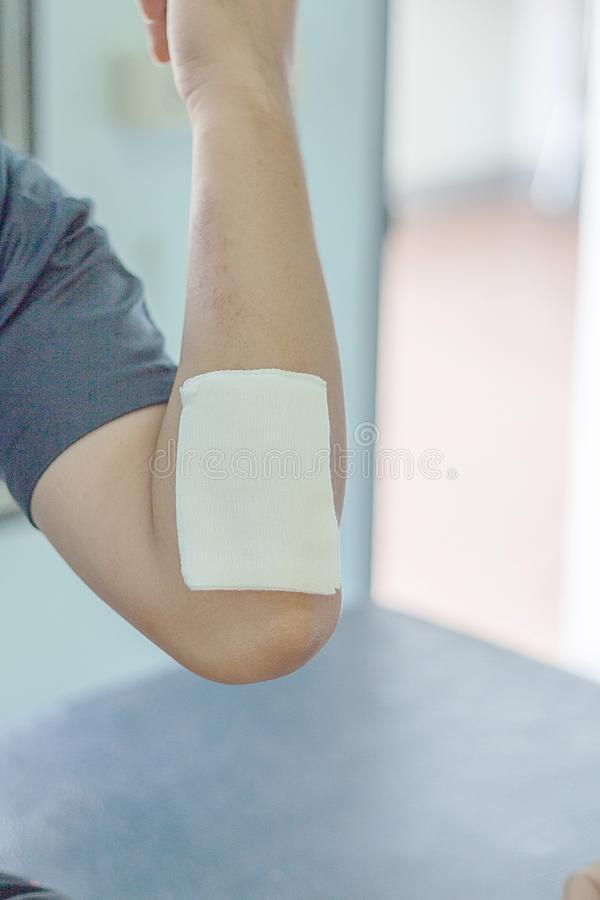gauze: (175, 367, 349, 597)
